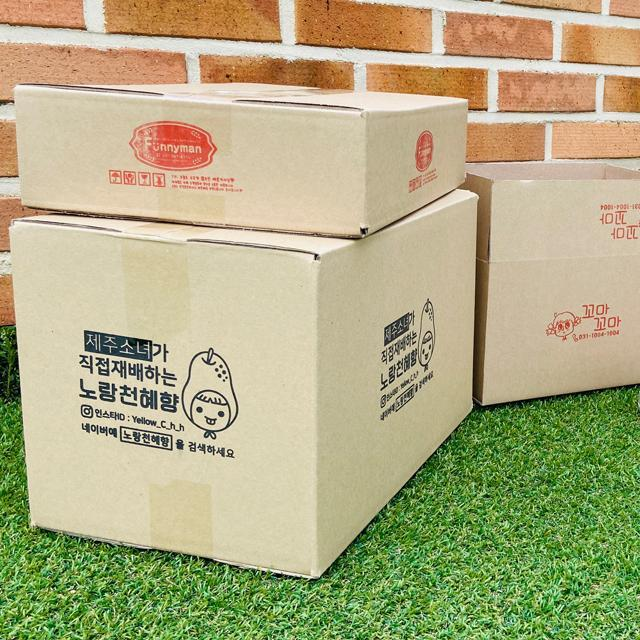box: (11, 185, 474, 578), (13, 82, 467, 238)
